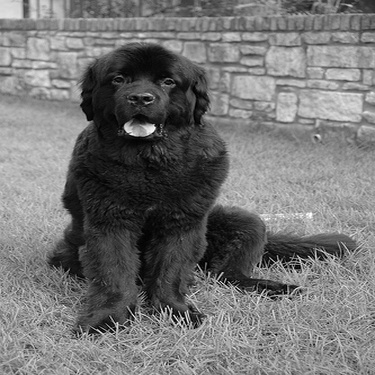dog: (33, 40, 361, 344)
